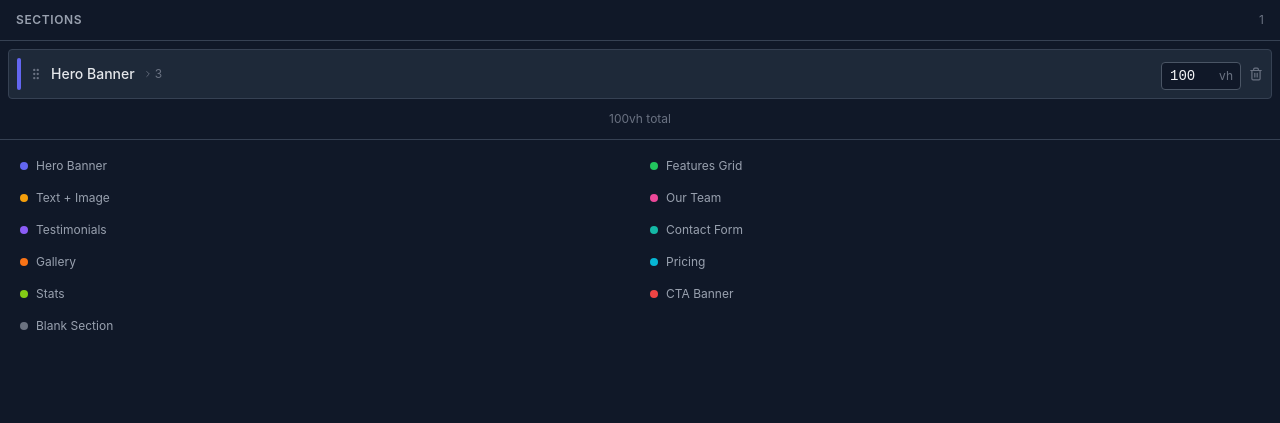
SectionBuilder › expanding a card shows content block items
// Expand blocks via the chevron button
What coordinates should you click on to do the following:
click the button named "Expand blocks"
I would click on:
 (152, 74)
Its box is x1=143 y1=66 x2=162 y2=82.
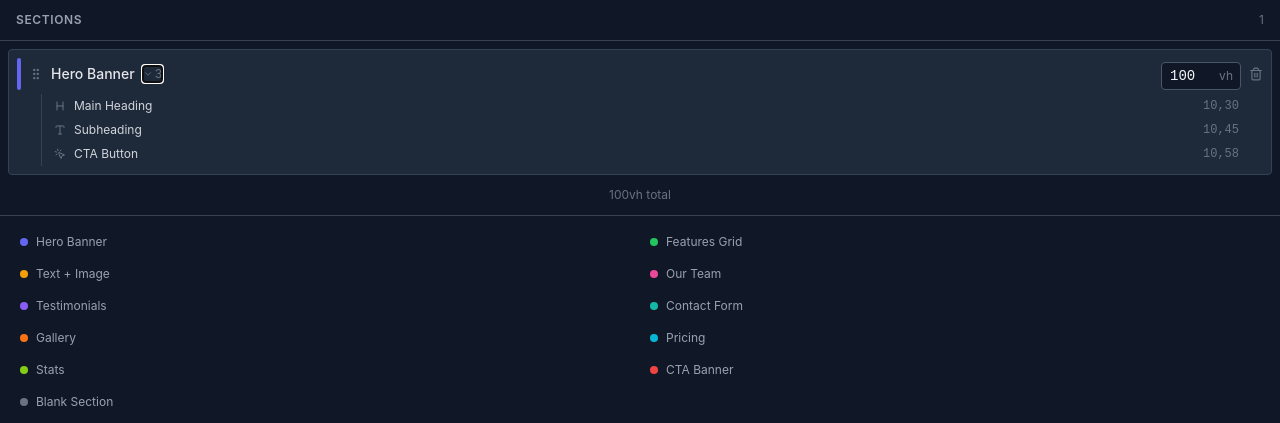
Expected: the text "Main Heading" is shown, x1=74 y1=98 x2=152 y2=113
Expected: the text "Subheading" is shown, x1=74 y1=122 x2=142 y2=137
Expected: the text "CTA Button" is shown, x1=74 y1=146 x2=138 y2=161
